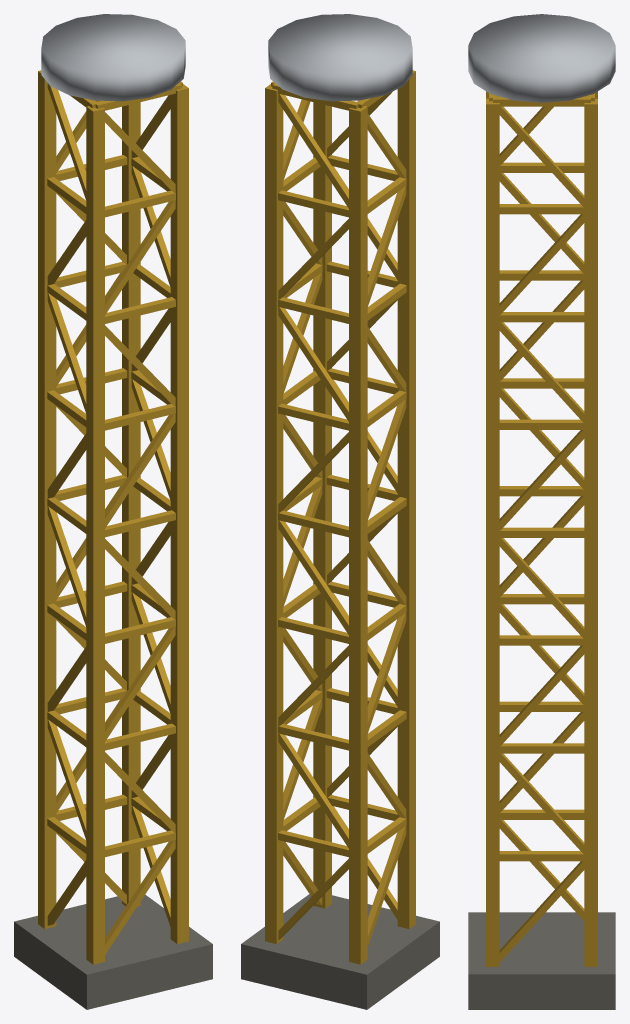
Rendered from pier_crane.glb.
The picture shows the model from 3 angles, left to right: view 1: azimuth 30°, elevation 25°; view 2: azimuth 150°, elevation 25°; view 3: azimuth 270°, elevation 25°; orthographic projection.
Visible parts, largest first — view 1: Body; view 2: Body; view 3: Body.
Part boxes in pixels (left/top/right/bottom): Body: left=14, top=14, right=212, bottom=1009; Body: left=241, top=14, right=439, bottom=1009; Body: left=468, top=14, right=615, bottom=1009.
Size of the model in its own units: 0.15 by 1.05 by 0.15.
